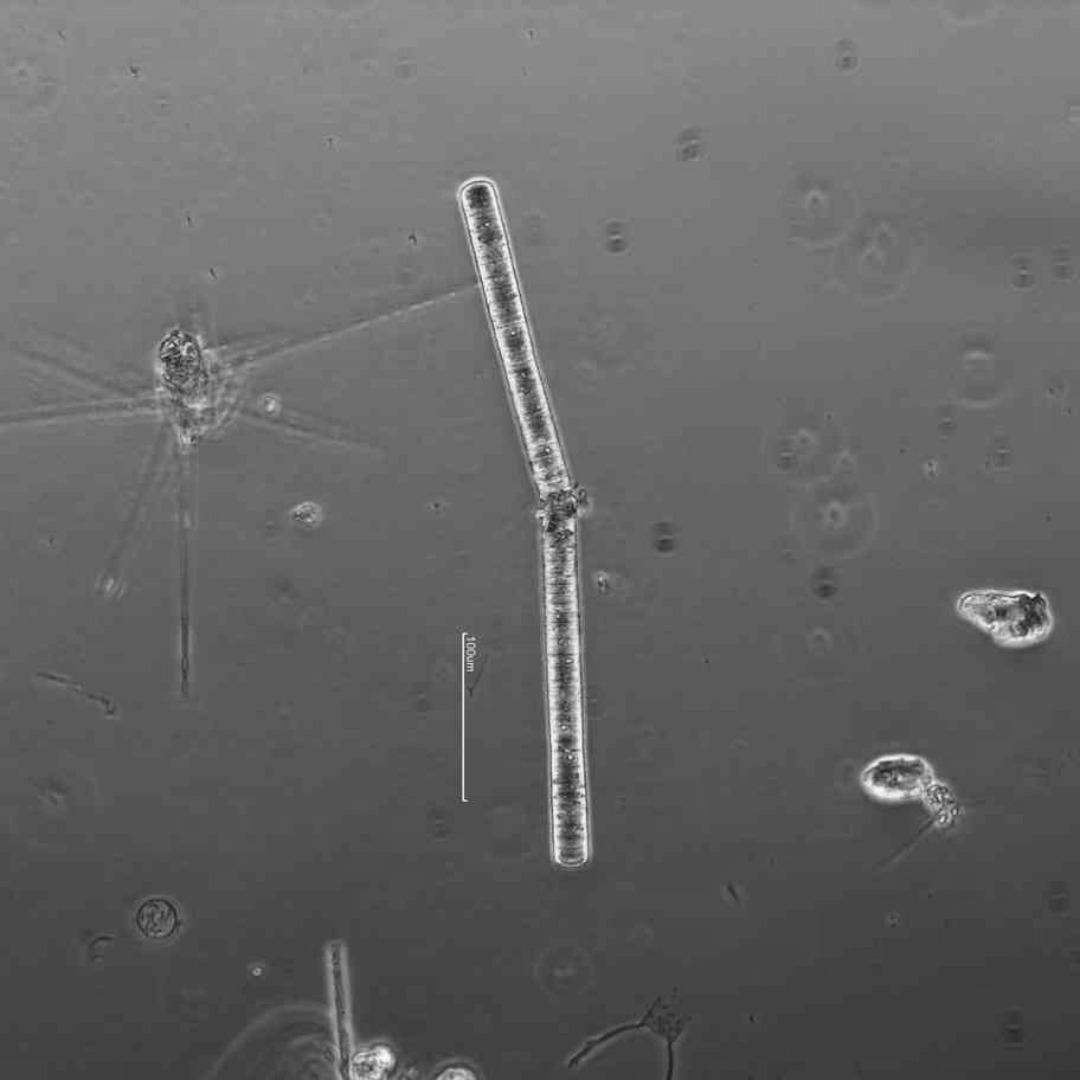trichodesmium_erythraeum: (459, 181, 592, 868)
